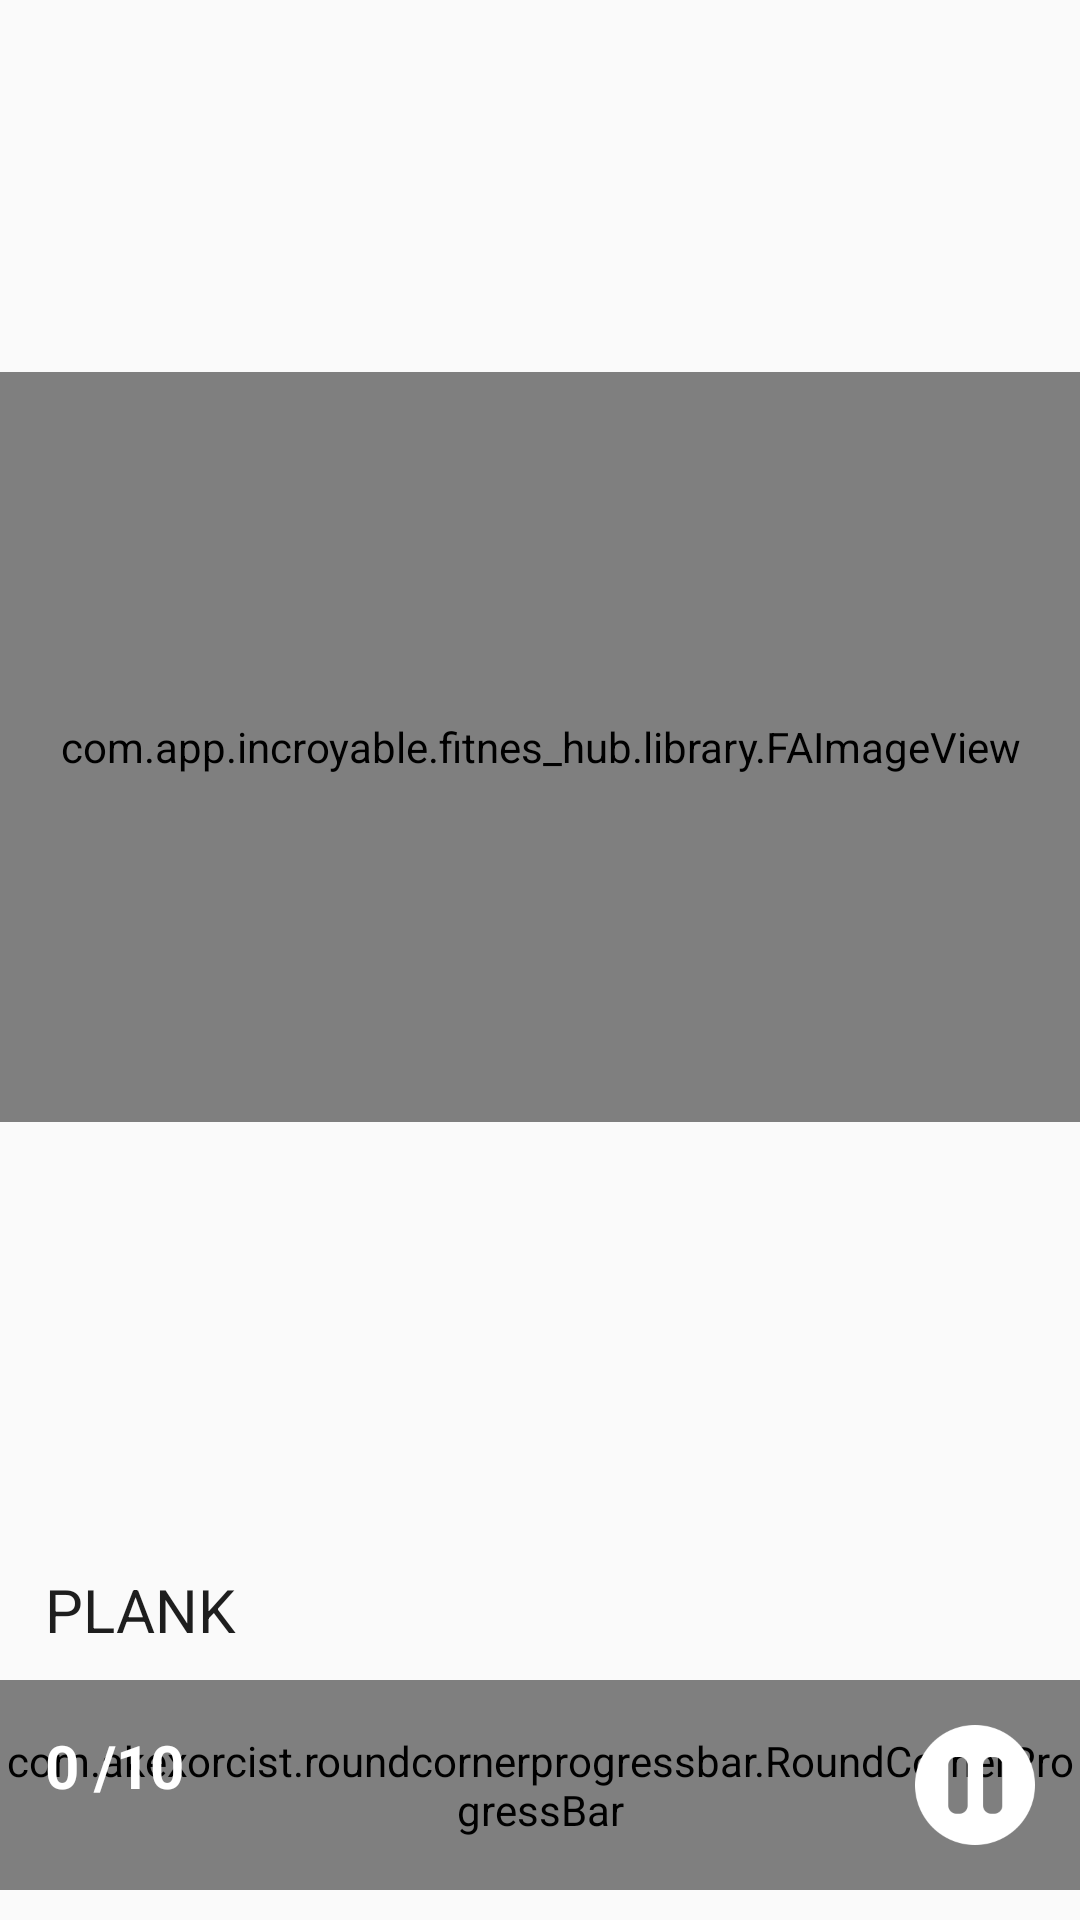

Icon click points for this 1080*1920 phone screenshot, format (x,y):
pause: (975,1785)
